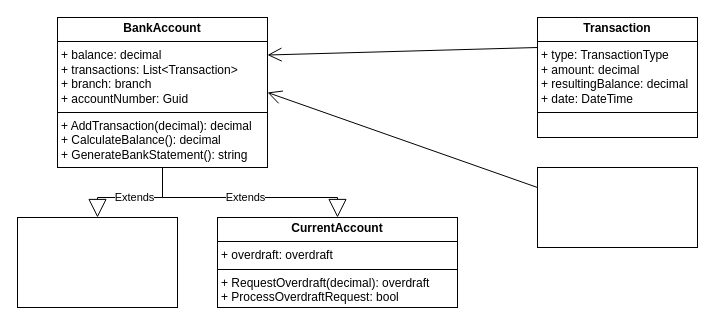
Some shapes in this 715 by 325 pixel diagram are drawn without their labels. Here are the shapes that lost their labels. From the top down, the centre of each, then its label:
At pixel 617 207: "Overdraft + status: OverdraftStatus + amount: decimal".
At pixel 97 262: "SavingsAccount".
